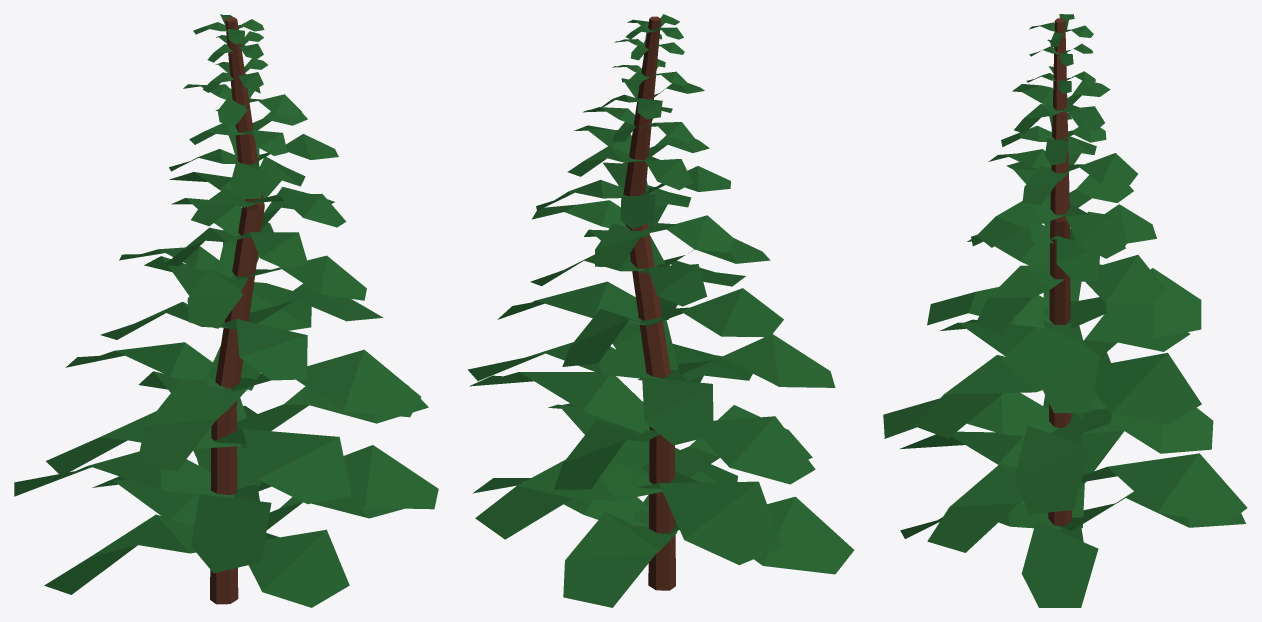
File: tree3.fbx
3 views of the same model, side by side, from view 1: azimuth 30°, elevation 25°; view 2: azimuth 150°, elevation 25°; view 3: azimuth 270°, elevation 25° (orthographic). The views are drawn at different scales.
Parts seen in each view (by area): view 1: Cylinder, Plane.008, Plane.003, Plane.012, Plane.013, Plane.007, Plane.005, Plane.002, Plane.017, Plane.006, Plane.015, Plane.014 (+25 smaller); view 2: Cylinder, Plane.006, Plane, Plane.004, Plane.009, Plane.002, Plane.010, Plane.015, Plane.013, Plane.019, Plane.011, Plane.016 (+24 smaller); view 3: Plane.004, Plane.014, Plane.010, Plane.001, Cylinder, Plane.012, Plane.016, Plane.005, Plane.018, Plane.011, Plane.008, Plane.020 (+25 smaller).
Part boxes in pixels (x1=…): Cylinder: x1=210, y1=17, x2=264, y2=604; Plane.008: x1=213, y1=429, x2=351, y2=504; Plane.003: x1=248, y1=529, x2=349, y2=607; Plane.012: x1=227, y1=349, x2=420, y2=417; Plane.013: x1=137, y1=379, x2=248, y2=471; Plane.007: x1=191, y1=485, x2=271, y2=573; Plane.005: x1=237, y1=445, x2=438, y2=509; Plane.002: x1=44, y1=514, x2=195, y2=594; Plane.017: x1=220, y1=319, x2=307, y2=380; Plane.006: x1=14, y1=451, x2=233, y2=498; Plane.015: x1=66, y1=342, x2=224, y2=388; Plane.014: x1=206, y1=282, x2=311, y2=390; Cylinder: x1=623, y1=16, x2=675, y2=590; Plane.006: x1=637, y1=471, x2=782, y2=565; Plane: x1=563, y1=512, x2=677, y2=607; Plane.004: x1=475, y1=459, x2=662, y2=539; Plane.009: x1=647, y1=416, x2=815, y2=484; Plane.002: x1=655, y1=496, x2=854, y2=574; Plane.010: x1=469, y1=372, x2=649, y2=433; Plane.015: x1=638, y1=370, x2=713, y2=445; Plane.013: x1=670, y1=334, x2=835, y2=387; Plane.019: x1=646, y1=288, x2=783, y2=337; Plane.011: x1=553, y1=420, x2=659, y2=489; Plane.016: x1=497, y1=281, x2=645, y2=325; Plane.004: x1=1081, y1=453, x2=1247, y2=524; Plane.014: x1=1093, y1=352, x2=1201, y2=424; Plane.010: x1=1013, y1=425, x2=1089, y2=514; Plane.001: x1=1021, y1=521, x2=1098, y2=607; Cylinder: x1=1048, y1=18, x2=1071, y2=526; Plane.012: x1=915, y1=355, x2=1042, y2=438; Plane.016: x1=1036, y1=320, x2=1100, y2=412; Plane.005: x1=927, y1=463, x2=1023, y2=552; Plane.018: x1=1069, y1=268, x2=1201, y2=338; Plane.011: x1=1066, y1=407, x2=1213, y2=453; Plane.008: x1=883, y1=392, x2=1058, y2=438; Plane.020: x1=975, y1=265, x2=1064, y2=332.
Size of the model in its own units: 549 by 820 by 484.
